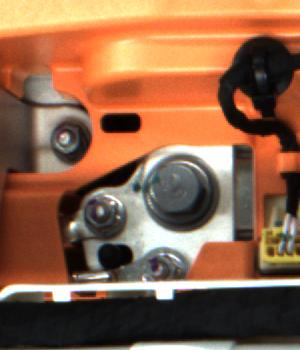nut_b: (137, 146, 223, 231)
screw_s: (79, 188, 121, 231), (53, 119, 89, 161), (143, 248, 183, 282)
